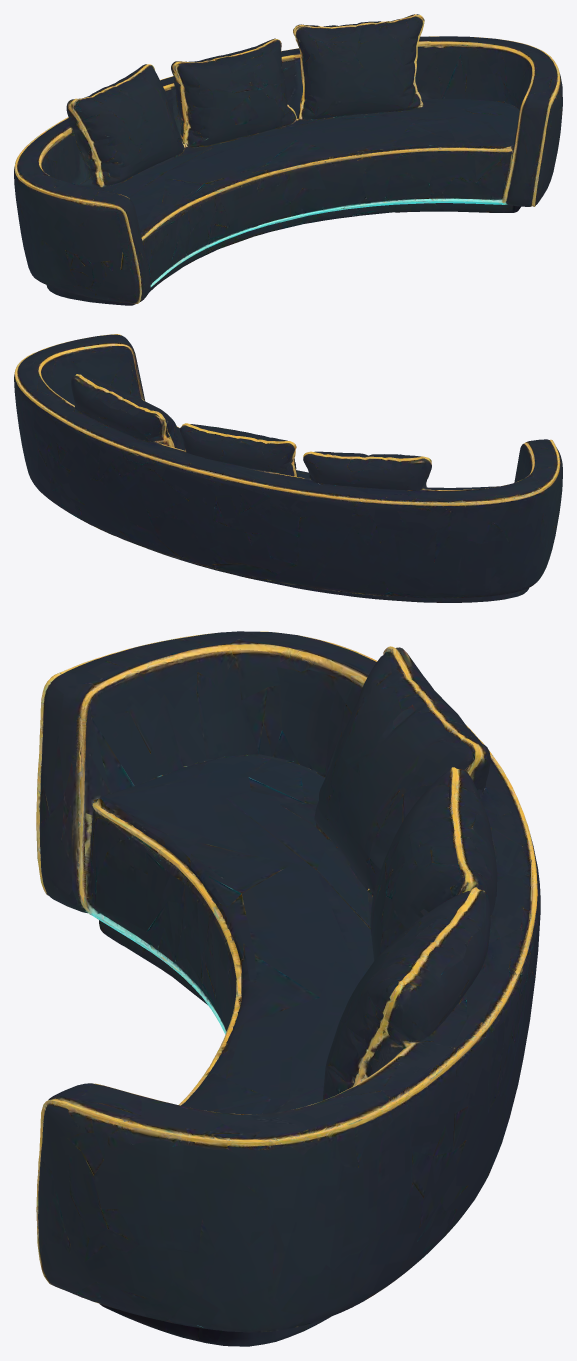
Rendered from fur-sofa.glb.
3 views of the same model, one above another, from view 1: azimuth 30°, elevation 25°; view 2: azimuth 150°, elevation 25°; view 3: azimuth 270°, elevation 25° (orthographic). The views are drawn at different scales.
Parts seen in each view (by area): view 1: Mesh_0; view 2: Mesh_0; view 3: Mesh_0.
Boxes of the visible parts, x1,y1,x2,y2 form: Mesh_0: [14, 14, 562, 305]; Mesh_0: [14, 334, 562, 602]; Mesh_0: [36, 631, 540, 1346].
Bounding box in the file's own units: 1.9 × 0.5174 × 0.7895.
Materials: 1 (1 with a texture image).
